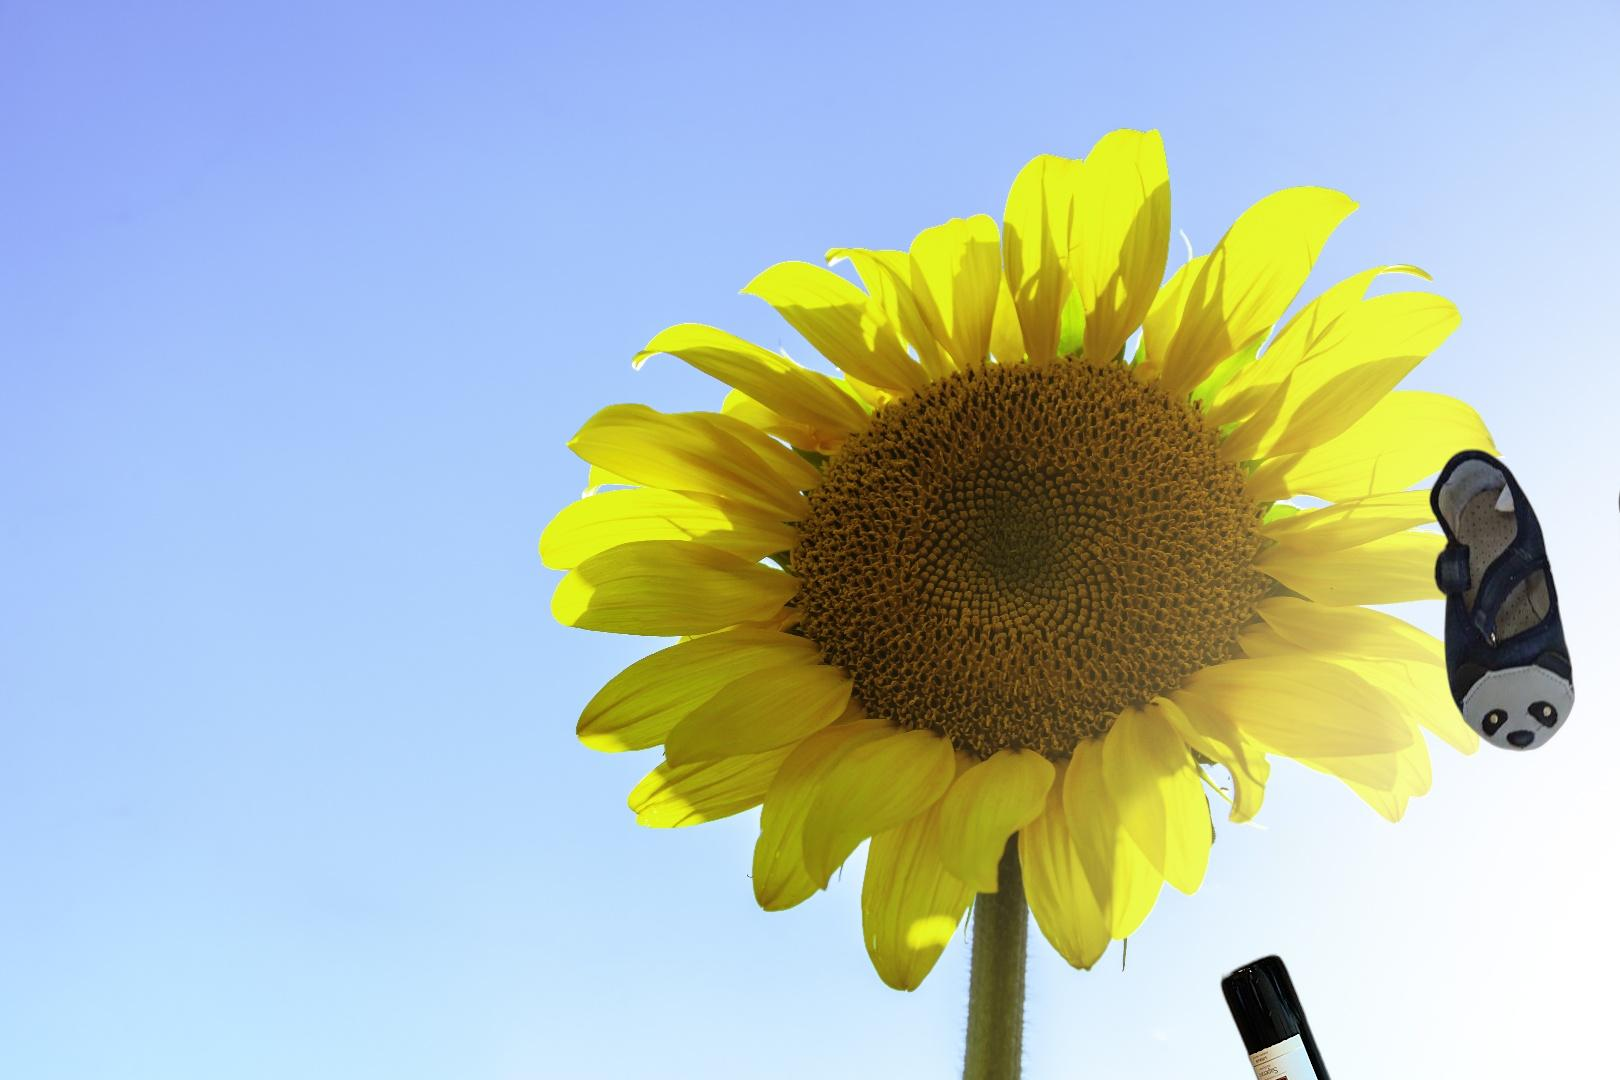glass: (1217, 949, 1370, 1080)
shoes: (1426, 417, 1620, 755)
